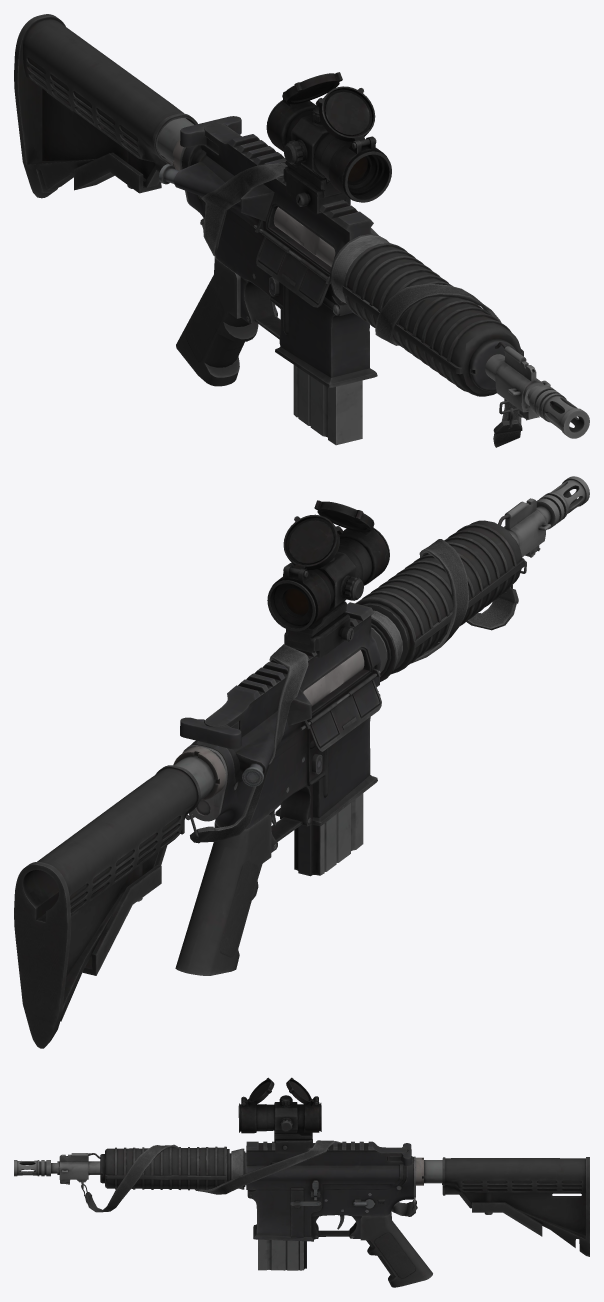
Rendered from m4-carbine.glb.
3 views of the same model, one above another, from view 1: azimuth 30°, elevation 25°; view 2: azimuth 150°, elevation 25°; view 3: azimuth 270°, elevation 25° (orthographic). The views are drawn at different scales.
Parts seen in each view (by area): view 1: Receiver, Stock, Scope, Sling, Magazine, BoltCarrier, ChargingHandle; view 2: Receiver, Stock, Scope, Sling, Magazine, ChargingHandle, BoltCarrier; view 3: Receiver, Stock, Scope, Sling, Magazine.
Part boxes in pixels (<box>): Receiver: <box>157,118,589,438</box>; Stock: <box>14,14,197,198</box>; Scope: <box>266,72,391,214</box>; Sling: <box>200,163,522,447</box>; Magazine: <box>293,365,362,445</box>; BoltCarrier: <box>273,207,335,266</box>; ChargingHandle: <box>180,116,241,153</box>; Receiver: <box>173,476,589,975</box>; Stock: <box>14,765,200,1048</box>; Scope: <box>267,500,389,658</box>; Sling: <box>189,539,526,843</box>; Magazine: <box>294,793,363,876</box>; ChargingHandle: <box>180,717,241,749</box>; BoltCarrier: <box>303,650,364,706</box>; Receiver: <box>14,1141,442,1287</box>; Stock: <box>442,1157,589,1256</box>; Scope: <box>238,1077,321,1153</box>; Sling: <box>81,1140,417,1216</box>; Magazine: <box>258,1239,306,1270</box>.
Size of the model in its own units: 0.0652 by 0.2612 by 0.6679.
Materials: 3 (3 with a texture image).
